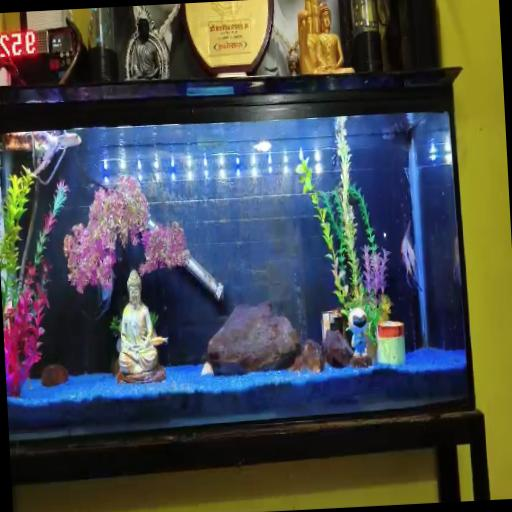Fish: (2, 131, 80, 184), (400, 222, 421, 290), (453, 236, 460, 282), (253, 141, 270, 153), (151, 336, 166, 345)
